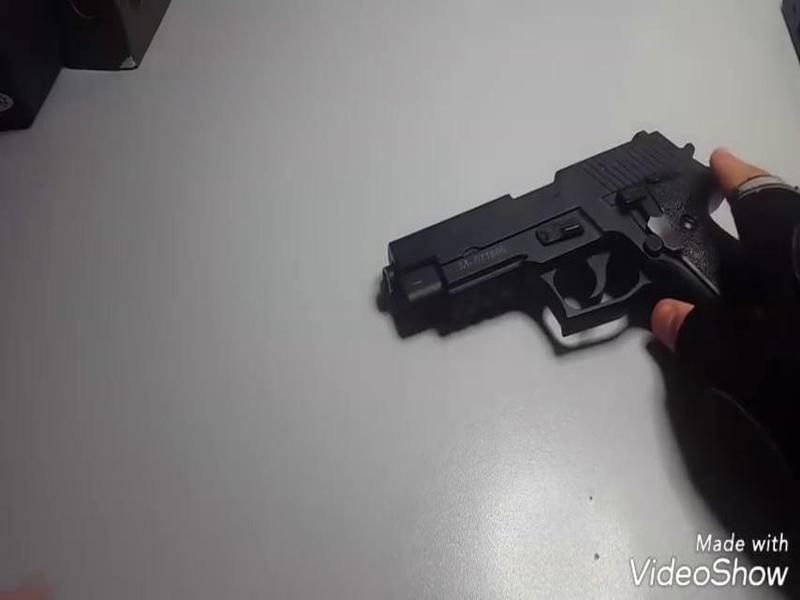Pistola: (367, 121, 798, 356)
